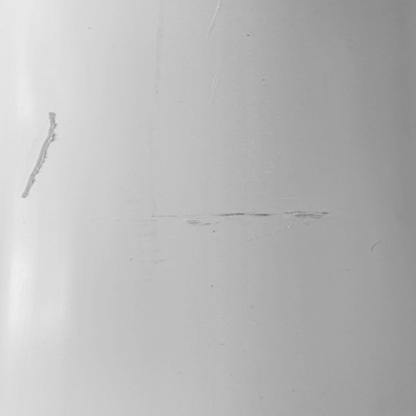sunshang: (186, 200, 328, 232), (22, 110, 59, 199)
